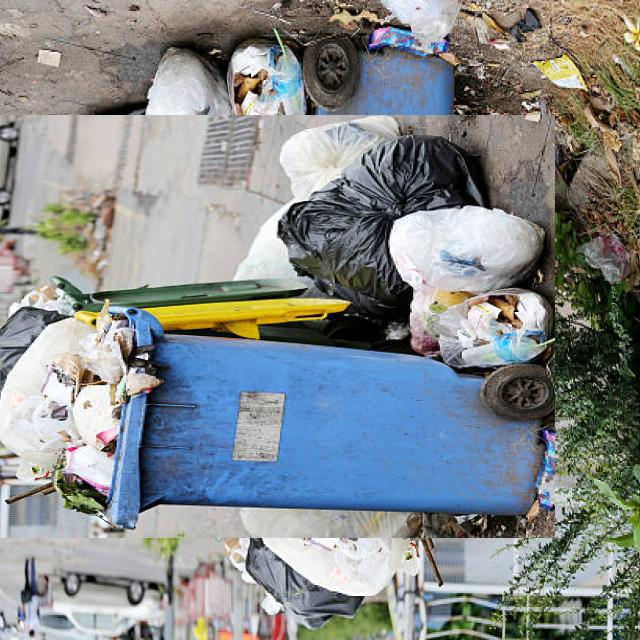garbage: (14, 75, 516, 578)
